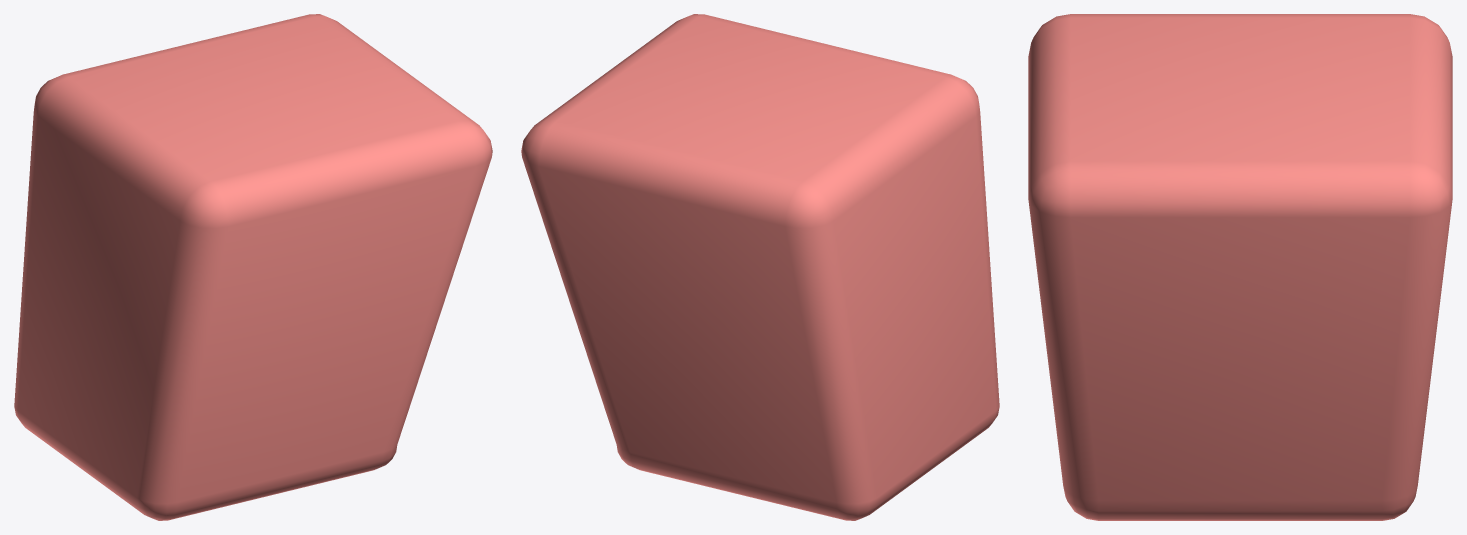
Rendered from SmallGround2.fbx.
3 views of the same model, side by side, from view 1: azimuth 30°, elevation 25°; view 2: azimuth 150°, elevation 25°; view 3: azimuth 270°, elevation 25° (orthographic). The views are drawn at different scales.
Parts seen in each view (by area): view 1: Roundcube; view 2: Roundcube; view 3: Roundcube.
Part boxes in pixels (bbox=[...]): Roundcube: bbox=[14, 14, 492, 520]; Roundcube: bbox=[521, 14, 999, 520]; Roundcube: bbox=[1028, 14, 1452, 520].
Bounding box in the file's own units: 261 × 247 × 236.
1 material, 1 textured.
